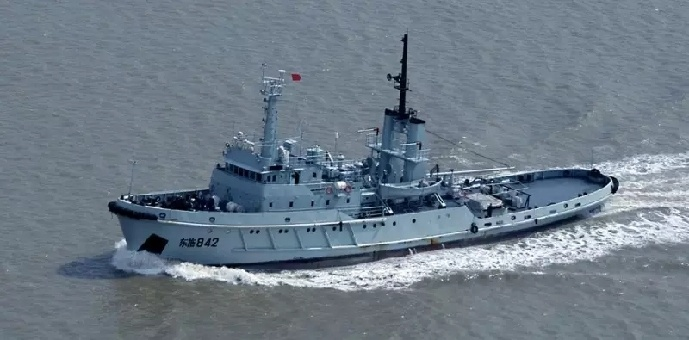warship: (100, 30, 620, 278)
